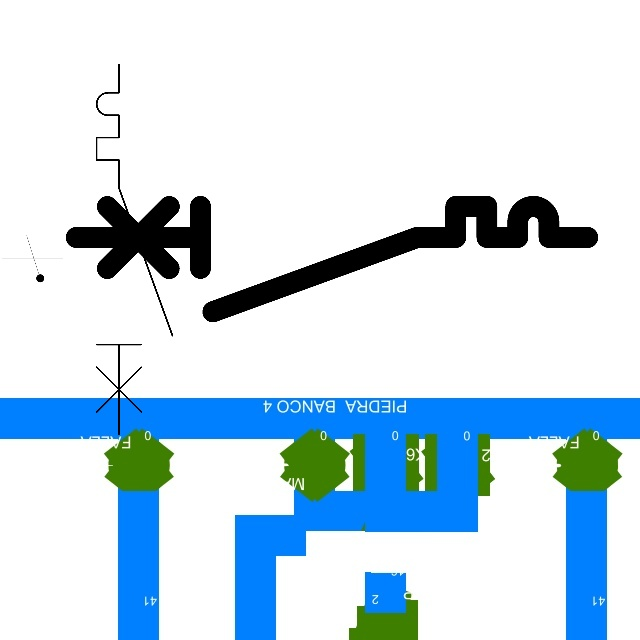interruptor_termomagnetico: (62, 193, 600, 324), (87, 55, 182, 444)
